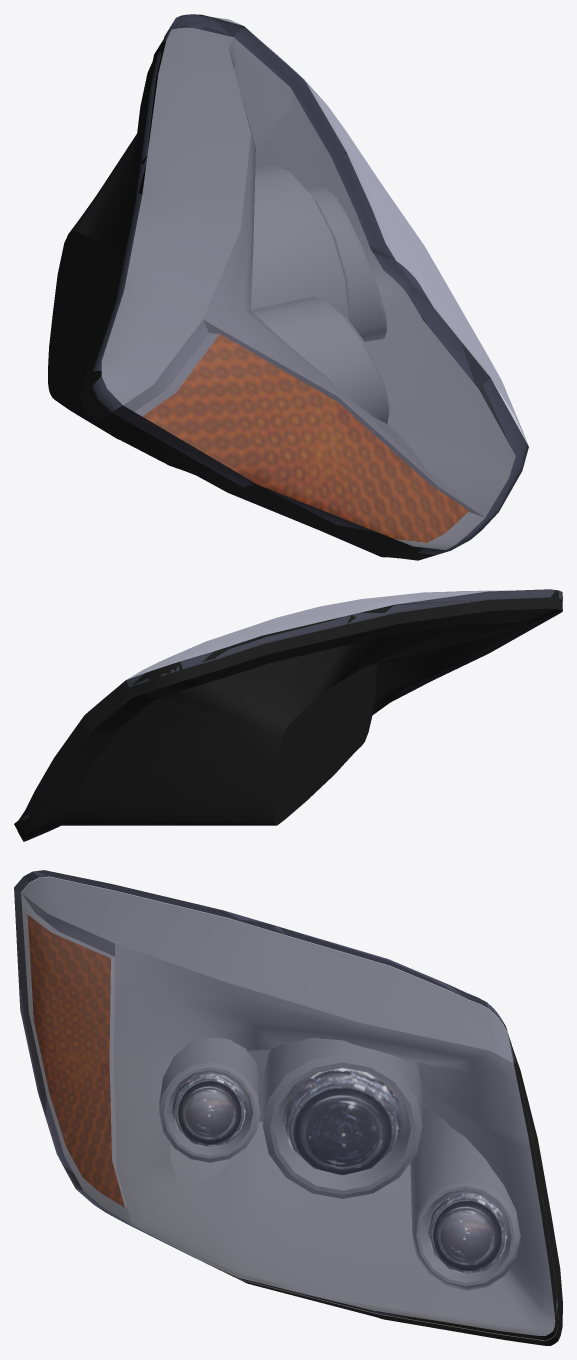
3 views of the same model, one above another, from view 1: azimuth 30°, elevation 25°; view 2: azimuth 150°, elevation 25°; view 3: azimuth 270°, elevation 25° (orthographic). The views are drawn at different scales.
Parts seen in each view (by area): view 1: SC30_061B_R_SC30_061B_R_6_DTaSI, SC30_061B_R_SC30_061B_R_2_DaS, SC30_061B_R_SC30_061B_R_7_D, SC30_061B_R_1_N_SC30_061B_R; view 2: SC30_061B_R_SC30_061B_R_7_D, SC30_061B_R_SC30_061B_R_6_DTaSI; view 3: SC30_061B_R_SC30_061B_R_6_DTaSI, SC30_061B_R_SC30_061B_R_2_DaS, SC30_061B_R_1_N_SC30_061B_R, SC30_061B_R_SC30_061B_R_7_D, SC30_061B_R_SC30_061B_R_4_N, SC30_061B_R_SC30_061B_R_5_N, SC30_061B_R_SC30_061B_R_3_N.
Boxes of the visible parts, x1,y1,x2,y2 form: SC30_061B_R_SC30_061B_R_6_DTaSI: (92, 14, 528, 554); SC30_061B_R_SC30_061B_R_2_DaS: (101, 27, 515, 549); SC30_061B_R_SC30_061B_R_7_D: (48, 14, 528, 560); SC30_061B_R_1_N_SC30_061B_R: (142, 334, 468, 542); SC30_061B_R_SC30_061B_R_7_D: (14, 589, 562, 841); SC30_061B_R_SC30_061B_R_6_DTaSI: (20, 589, 562, 819); SC30_061B_R_SC30_061B_R_6_DTaSI: (14, 870, 557, 1335); SC30_061B_R_SC30_061B_R_2_DaS: (21, 877, 558, 1340); SC30_061B_R_1_N_SC30_061B_R: (27, 915, 124, 1207); SC30_061B_R_SC30_061B_R_7_D: (14, 870, 562, 1345); SC30_061B_R_SC30_061B_R_4_N: (282, 1068, 402, 1175); SC30_061B_R_SC30_061B_R_5_N: (428, 1192, 507, 1274); SC30_061B_R_SC30_061B_R_3_N: (172, 1073, 247, 1148).
Bounding box in the file's own units: 37.13 × 20.66 × 37.28.
